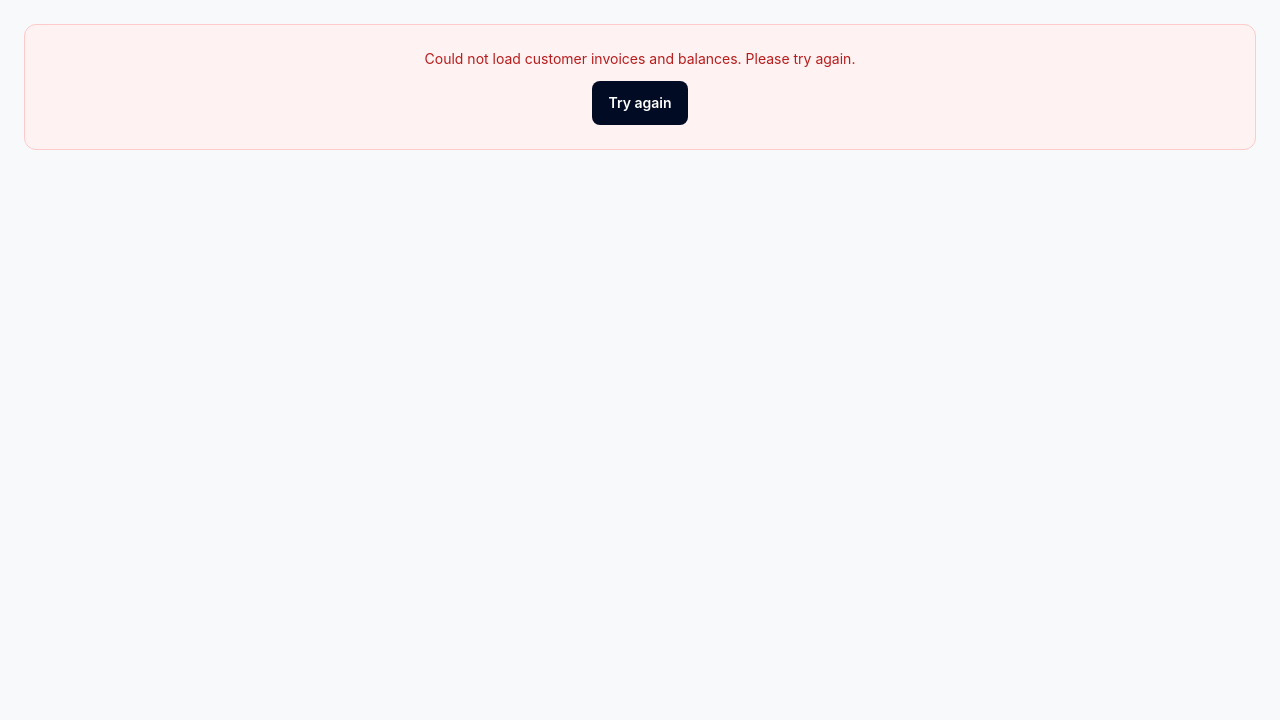
it: CustomerDetailPage › retries a failed history read without showing fabricated zero balances
The image size is (1280, 720).
Check: the message "Could not load customer invoices and balances. Please try again. Try again" is shown, box 24,24 -> 1256,150
Check: the text "Outstanding balance" is not shown
Click the button "Try again": (640, 103) 592,81 -> 688,125
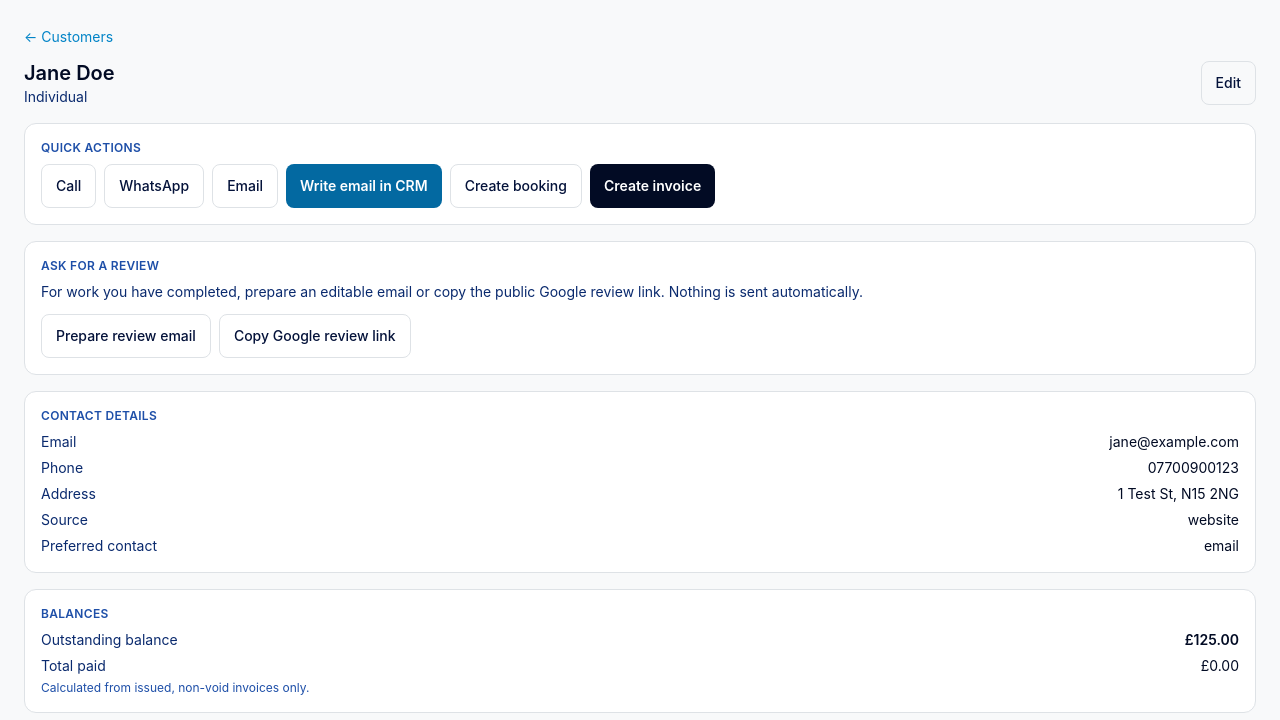
Check: the text "£125.00" is shown, box 1185,630 -> 1239,650
